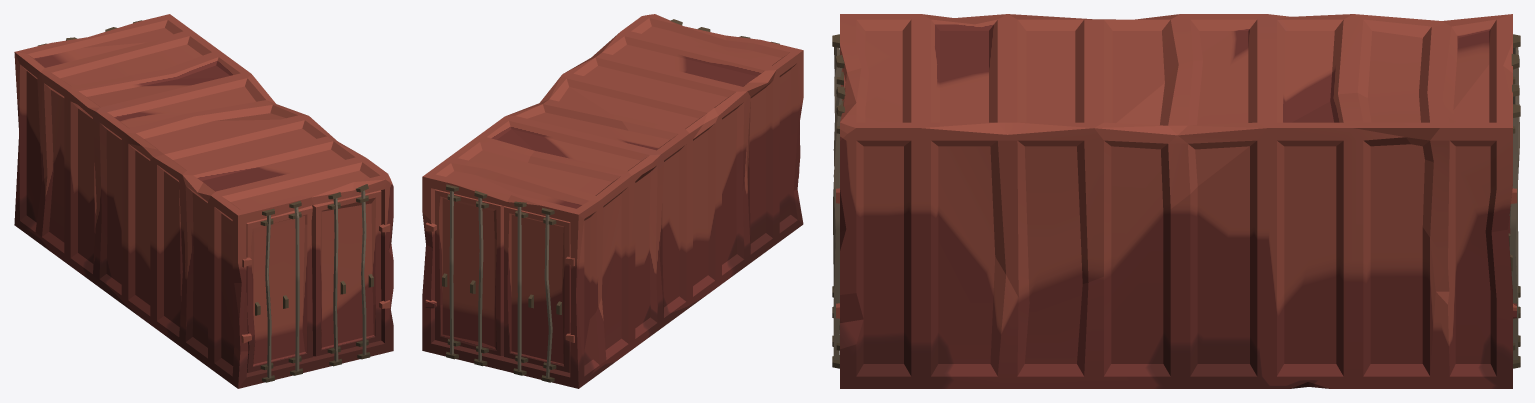
The model's file is SM_Prop_Shipping_Container_Damaged_01.obj.
3 renders of one model, left to right at view 1: azimuth 30°, elevation 25°; view 2: azimuth 150°, elevation 25°; view 3: azimuth 270°, elevation 25°, orthographic. The views are drawn at different scales.
Parts seen in each view (by area): view 1: SM_Prop_Shipping_Container_Damaged_01_0; view 2: SM_Prop_Shipping_Container_Damaged_01_0; view 3: SM_Prop_Shipping_Container_Damaged_01_0.
Boxes of the visible parts, x1=… form: SM_Prop_Shipping_Container_Damaged_01_0: x1=14, y1=14, x2=393, y2=388; SM_Prop_Shipping_Container_Damaged_01_0: x1=422, y1=14, x2=803, y2=388; SM_Prop_Shipping_Container_Damaged_01_0: x1=832, y1=14, x2=1520, y2=388.
Size of the model in its own units: 2.48 by 2.59 by 6.19.
1 material, 1 textured.
